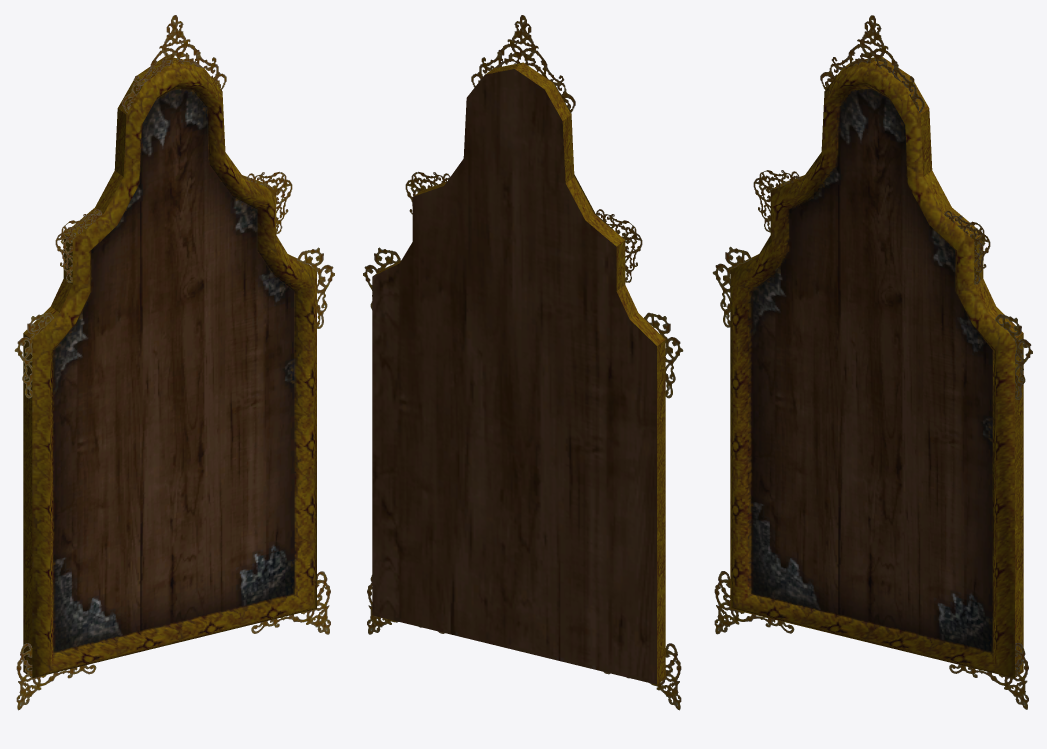
Rendered from mirror_broken_small.dae.
3 views of the same model, side by side, from view 1: azimuth 30°, elevation 25°; view 2: azimuth 150°, elevation 25°; view 3: azimuth 330°, elevation 25° (orthographic).
Visible parts, largest first — view 1: pCube2; view 2: pCube2; view 3: pCube2.
Part boxes in pixels (x1,y1,x2,y2): pCube2: (14, 15, 334, 710); pCube2: (363, 15, 683, 710); pCube2: (712, 15, 1032, 709).
Size of the model in its own units: 0.4948 by 1.01 by 0.044.
